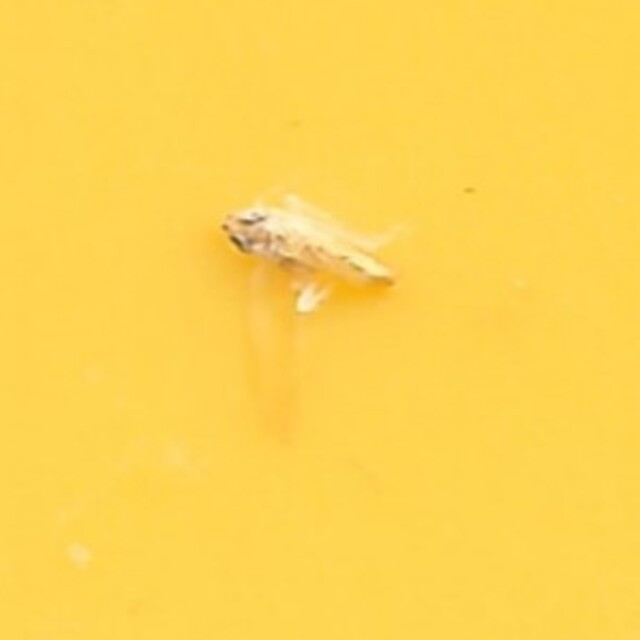Hemiptera: (214, 196, 426, 444)
